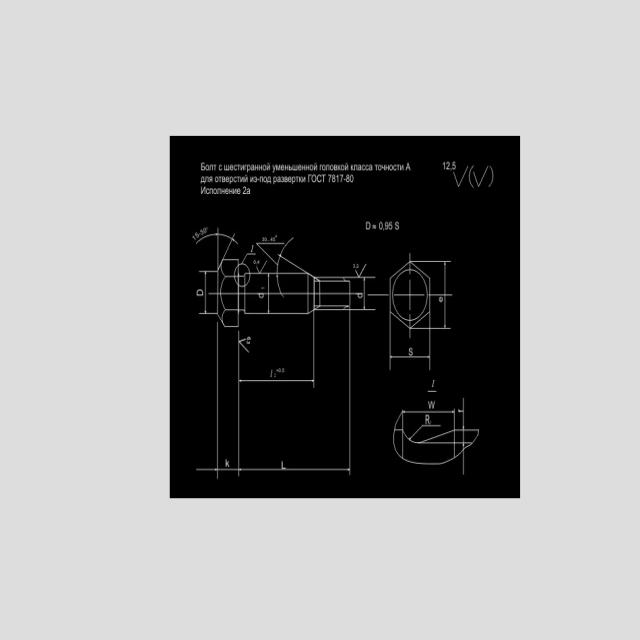marking_line: (197, 329, 355, 471), (237, 329, 352, 476), (236, 327, 315, 387), (389, 330, 431, 371), (430, 261, 451, 331), (196, 227, 239, 258), (350, 277, 376, 311), (199, 270, 217, 316), (402, 410, 455, 424), (410, 424, 440, 439), (268, 275, 271, 314)
numeric: (225, 458, 230, 468), (389, 220, 394, 230), (281, 460, 286, 469), (384, 222, 389, 230), (366, 222, 371, 230), (243, 186, 247, 195), (379, 221, 383, 230), (447, 161, 451, 170), (453, 160, 457, 169), (351, 174, 355, 183), (203, 227, 207, 235), (395, 222, 399, 230), (346, 174, 350, 182), (339, 174, 343, 182), (443, 161, 446, 171), (195, 232, 199, 239), (200, 229, 204, 236), (270, 369, 273, 378), (269, 236, 273, 242), (192, 235, 196, 241), (332, 175, 335, 183), (328, 175, 331, 183), (251, 245, 254, 252), (336, 175, 339, 182), (264, 237, 267, 242), (262, 237, 264, 242), (273, 237, 275, 242)
special_symbol: (474, 166, 488, 188), (454, 169, 467, 187), (488, 165, 494, 188), (355, 265, 366, 277), (469, 165, 474, 190), (256, 262, 267, 273), (239, 338, 246, 350), (276, 368, 286, 373), (197, 289, 204, 296), (373, 223, 377, 230), (253, 259, 257, 265), (261, 285, 265, 291), (259, 295, 264, 299), (257, 260, 260, 265), (206, 226, 209, 230), (275, 234, 278, 238)
